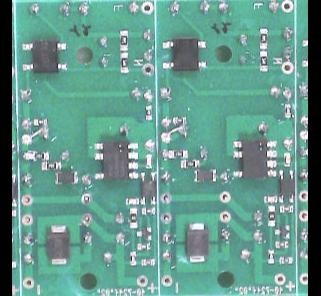chip-capacitor: (284, 151, 292, 166), (264, 194, 278, 202), (126, 197, 140, 205), (146, 153, 153, 168)
chip-resistor: (119, 28, 129, 50), (260, 50, 270, 71), (181, 158, 202, 168), (268, 204, 277, 227), (129, 207, 138, 228), (260, 26, 268, 49), (121, 50, 129, 73), (170, 149, 189, 158), (43, 160, 62, 169), (33, 151, 50, 160), (268, 248, 276, 264), (279, 204, 295, 212), (145, 104, 153, 120), (275, 240, 290, 248), (130, 251, 138, 266), (34, 118, 49, 126), (279, 255, 293, 263), (173, 116, 187, 124), (138, 242, 152, 250), (285, 103, 292, 117), (142, 258, 156, 265), (142, 206, 155, 213)
diode: (47, 223, 71, 264), (186, 222, 210, 262), (56, 170, 79, 184), (195, 168, 218, 181)
ic: (233, 137, 278, 179), (94, 140, 140, 180), (23, 37, 69, 74), (163, 36, 207, 70), (278, 168, 296, 202), (140, 170, 157, 205)
transistor: (275, 224, 291, 238), (137, 226, 153, 240)
